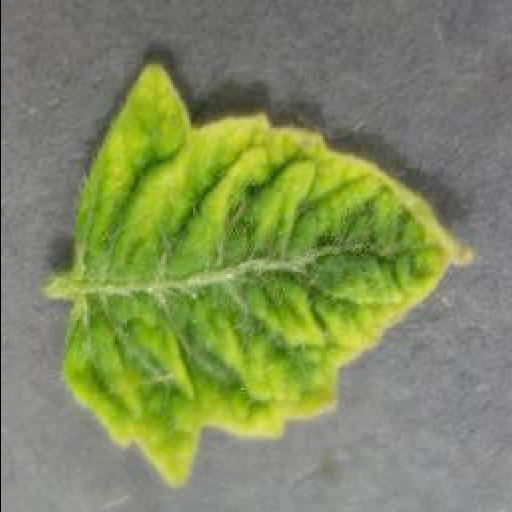disease_tomato: (59, 64, 477, 486)
